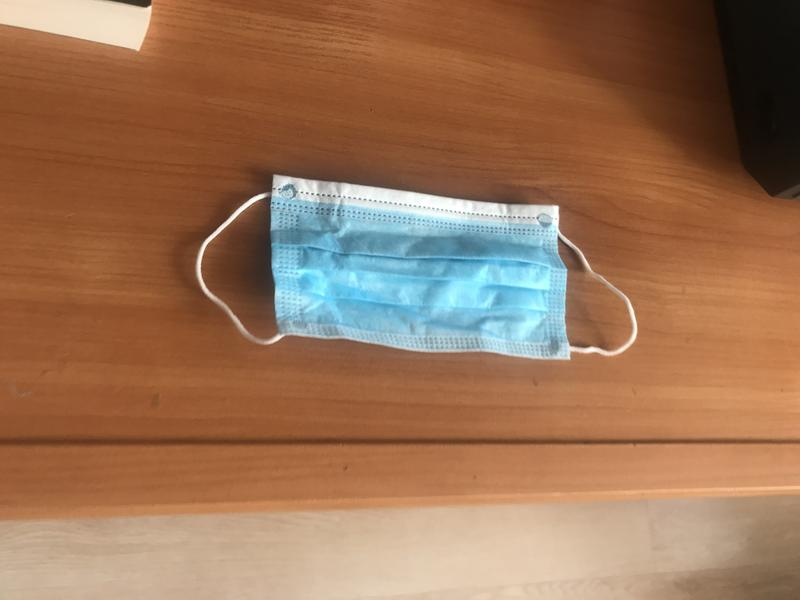medical_mask: (196, 174, 637, 361)
